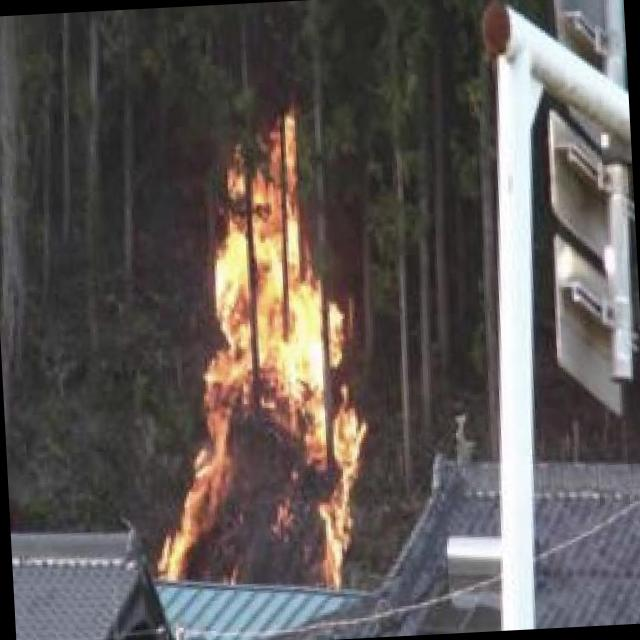Fire: (128, 74, 390, 610)
